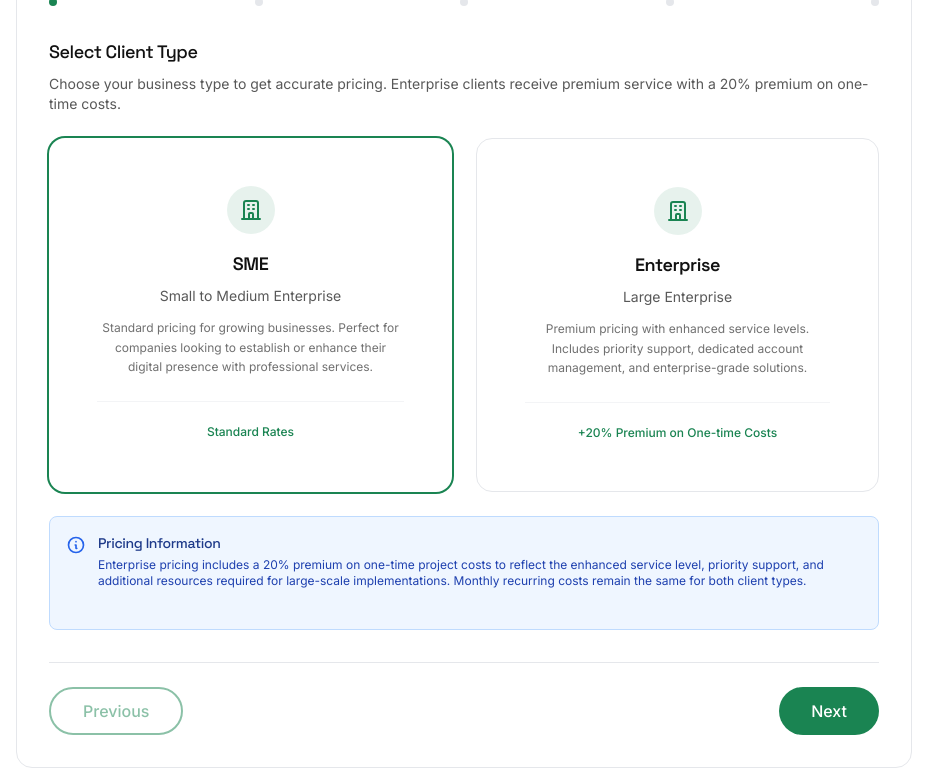
Scenario: PricingCalculator UI Components › Cost Display and Separation › should display cost categories separately in summary
The image size is (929, 768).
(page scrolled)
Click the button "Next".
click(829, 710)  # box x1=779 y1=686 x2=879 y2=734
(page scrolled)
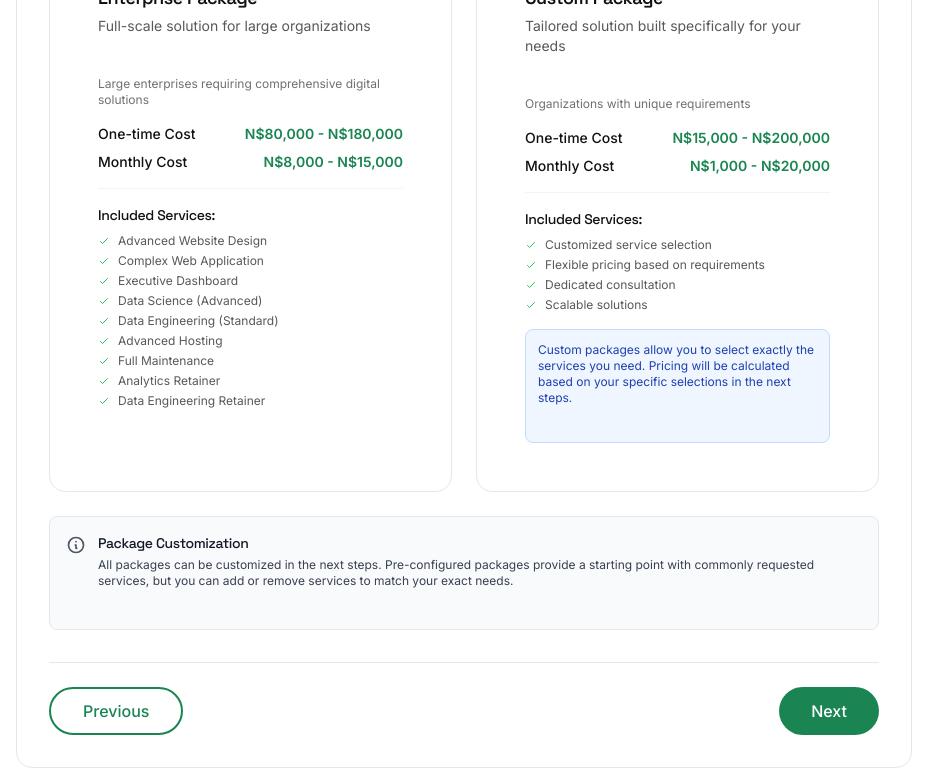
Click the button "Next".
click(829, 711)  # box x1=779 y1=687 x2=879 y2=735
(page scrolled)
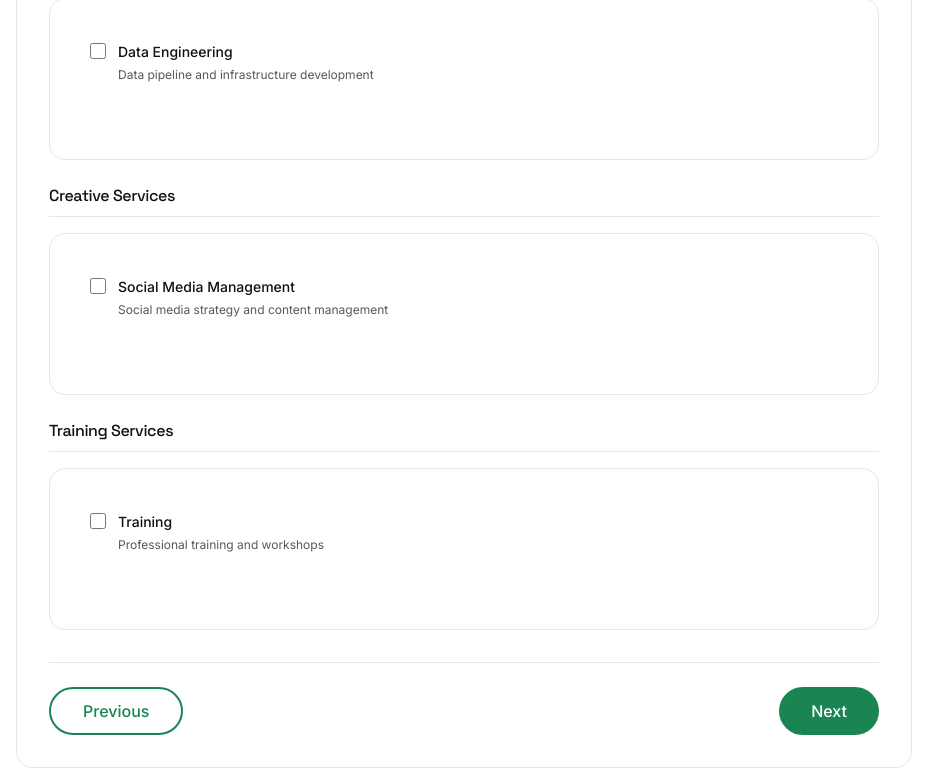
Click the button "Next".
click(829, 711)  # box x1=779 y1=687 x2=879 y2=735
(page scrolled)
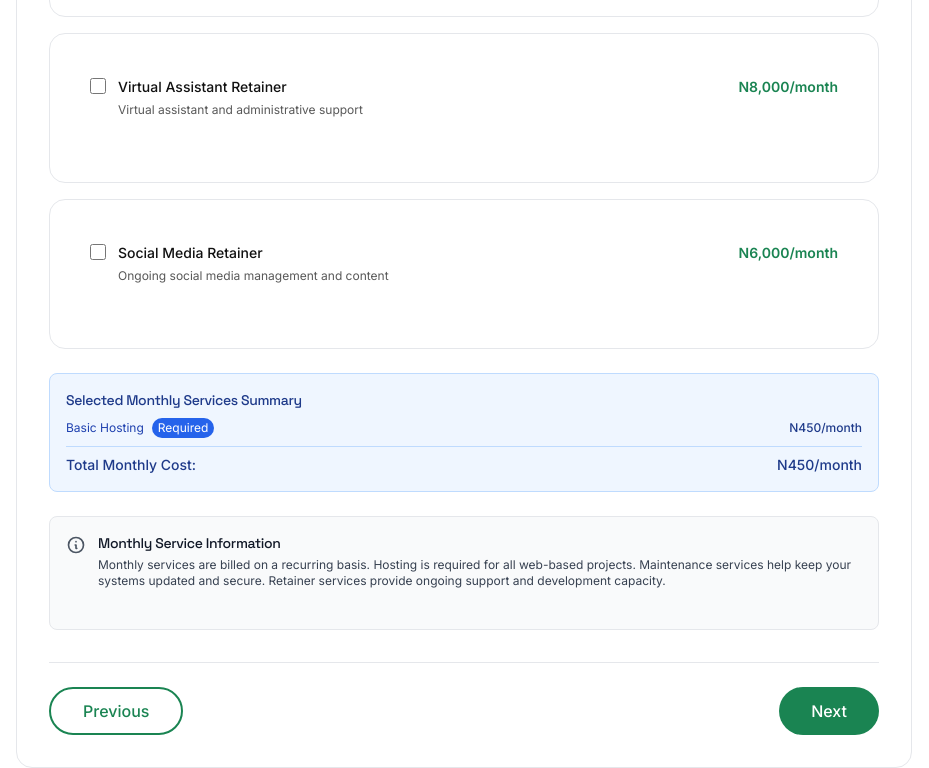
Click the button "Next".
click(829, 711)  # box x1=779 y1=687 x2=879 y2=735
(page scrolled)
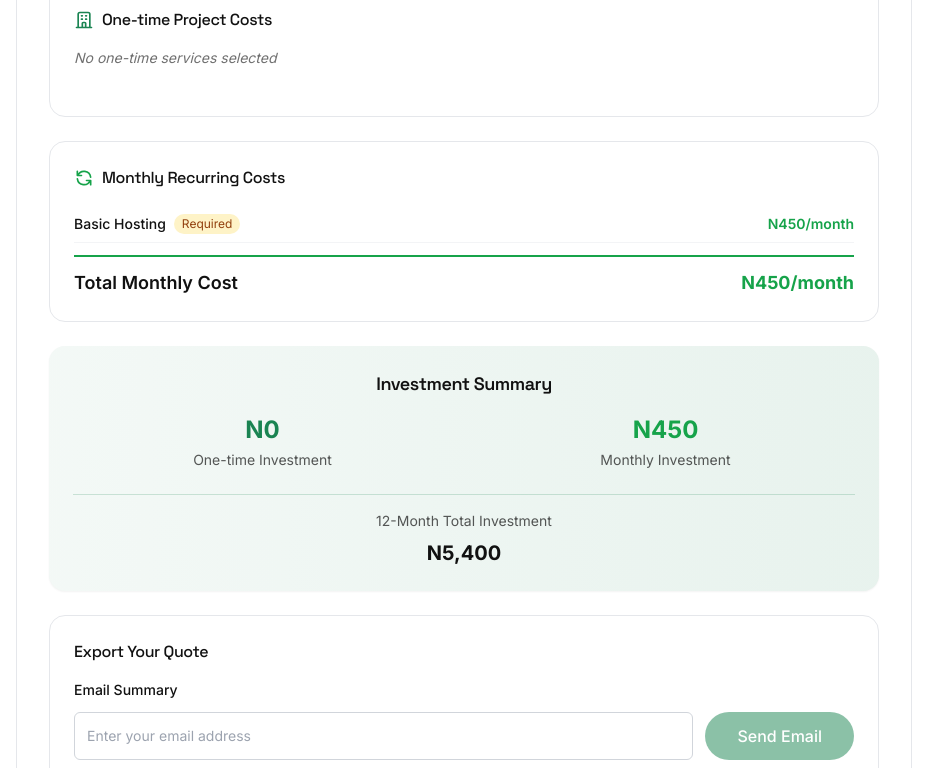
Expected: the heading "One-time Project Costs" is shown, x1=74 y1=9 x2=272 y2=30
Expected: the heading "Monthly Recurring Costs" is shown, x1=74 y1=167 x2=285 y2=188
Expected: the heading "Investment Summary" is shown, x1=376 y1=372 x2=552 y2=395
